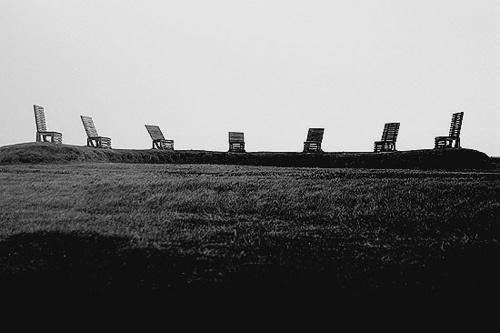chair: (33, 105, 65, 146), (77, 114, 114, 149), (435, 112, 465, 149), (373, 121, 402, 153), (146, 125, 175, 150), (302, 127, 327, 153), (227, 132, 247, 154)
